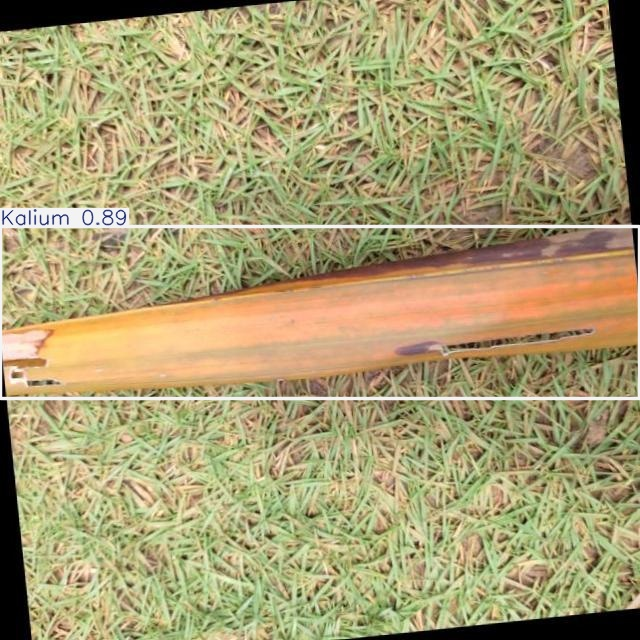Kalium: (1, 226, 639, 398)
